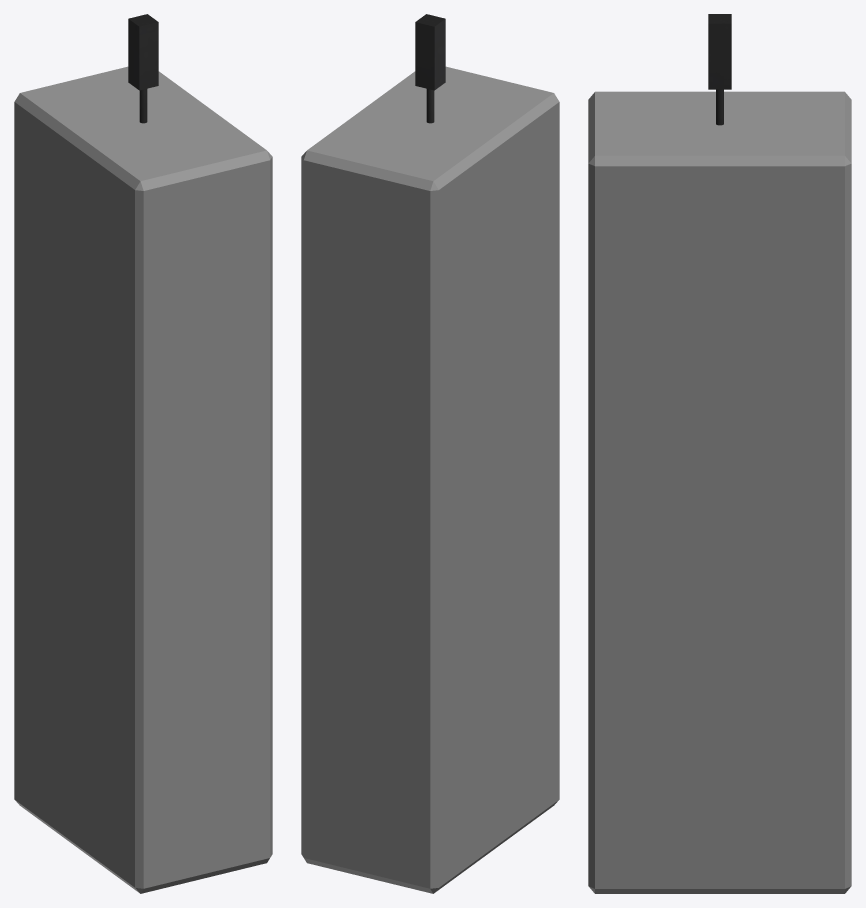
Rendered from SND_duiduoji_diangui.glb.
3 renders of one model, left to right at view 1: azimuth 30°, elevation 25°; view 2: azimuth 150°, elevation 25°; view 3: azimuth 270°, elevation 25°, orthographic. The views are drawn at different scales.
Parts seen in each view (by area): view 1: Asset3DLoader.sceneRoot; view 2: Asset3DLoader.sceneRoot; view 3: Asset3DLoader.sceneRoot.
Part boxes in pixels (x1=…): Asset3DLoader.sceneRoot: x1=14, y1=14, x2=272, y2=893; Asset3DLoader.sceneRoot: x1=301, y1=14, x2=559, y2=893; Asset3DLoader.sceneRoot: x1=588, y1=14, x2=851, y2=893.
Size of the model in its own units: 371 by 2100 by 594.
Materials: 2 (1 with a texture image).
